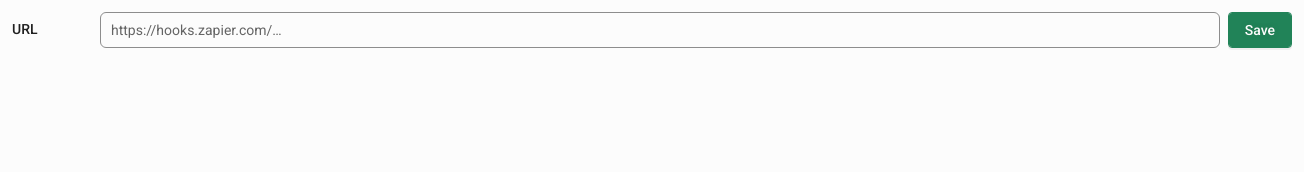
Test case: WebhookForm › shows the server's URL error on the field
Type "https://hooks.example.com/b" into the field labelled "URL" at (660, 30), box 100,12 -> 1220,48
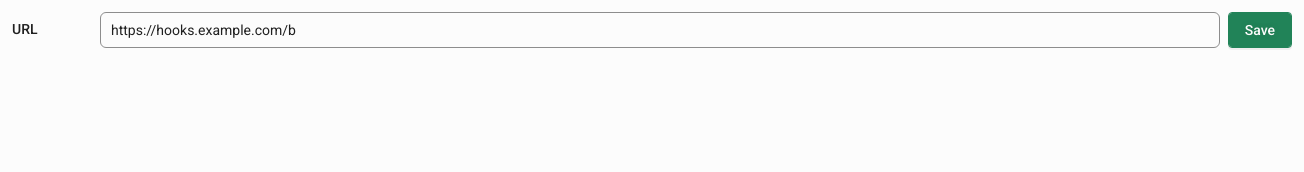
Click the button "Save" at (1260, 30), box 1228,12 -> 1292,48
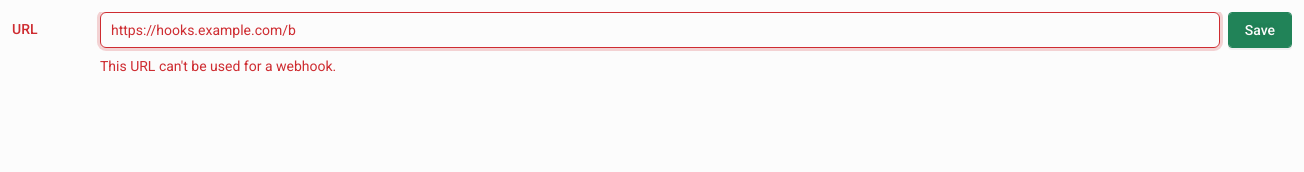
Now the text "This URL can't be used for a webhook." is shown, box 100,58 -> 336,74
